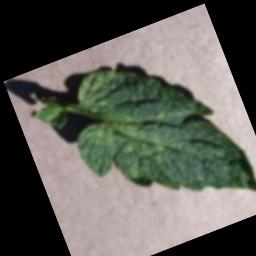Leaf_Mold: (55, 26, 256, 249)
